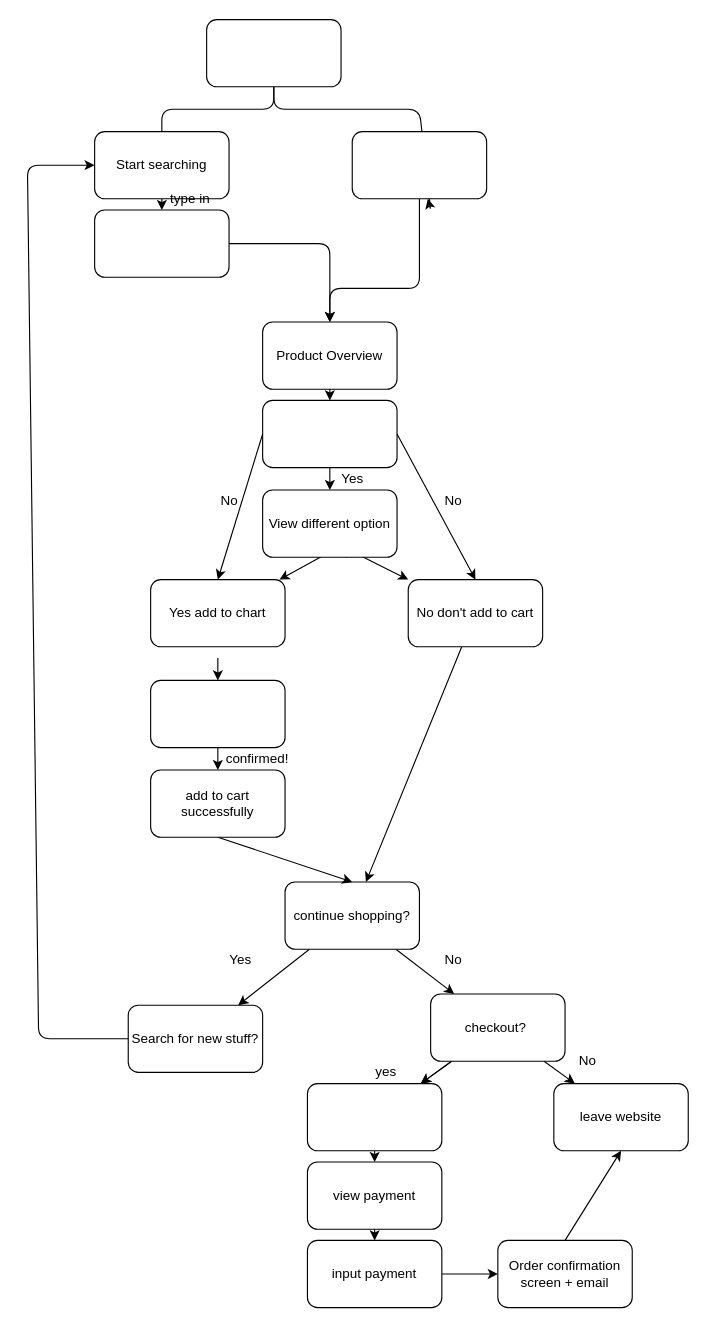
Image size: 708x1327. Some labels were removed from this diagram. Each missing label, with the centre of its shape:
browsing: (419,164)
Cart Confirmation: (217,713)
Enter Shop: (273,52)
Search query: (161,243)
Specific Product: (329,433)
view cart: (374,1116)
